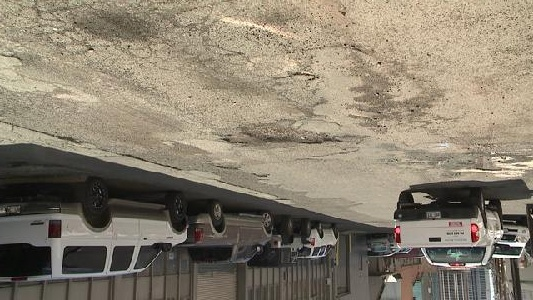pothole: (241, 124, 340, 147), (217, 131, 246, 147), (470, 164, 505, 175)
